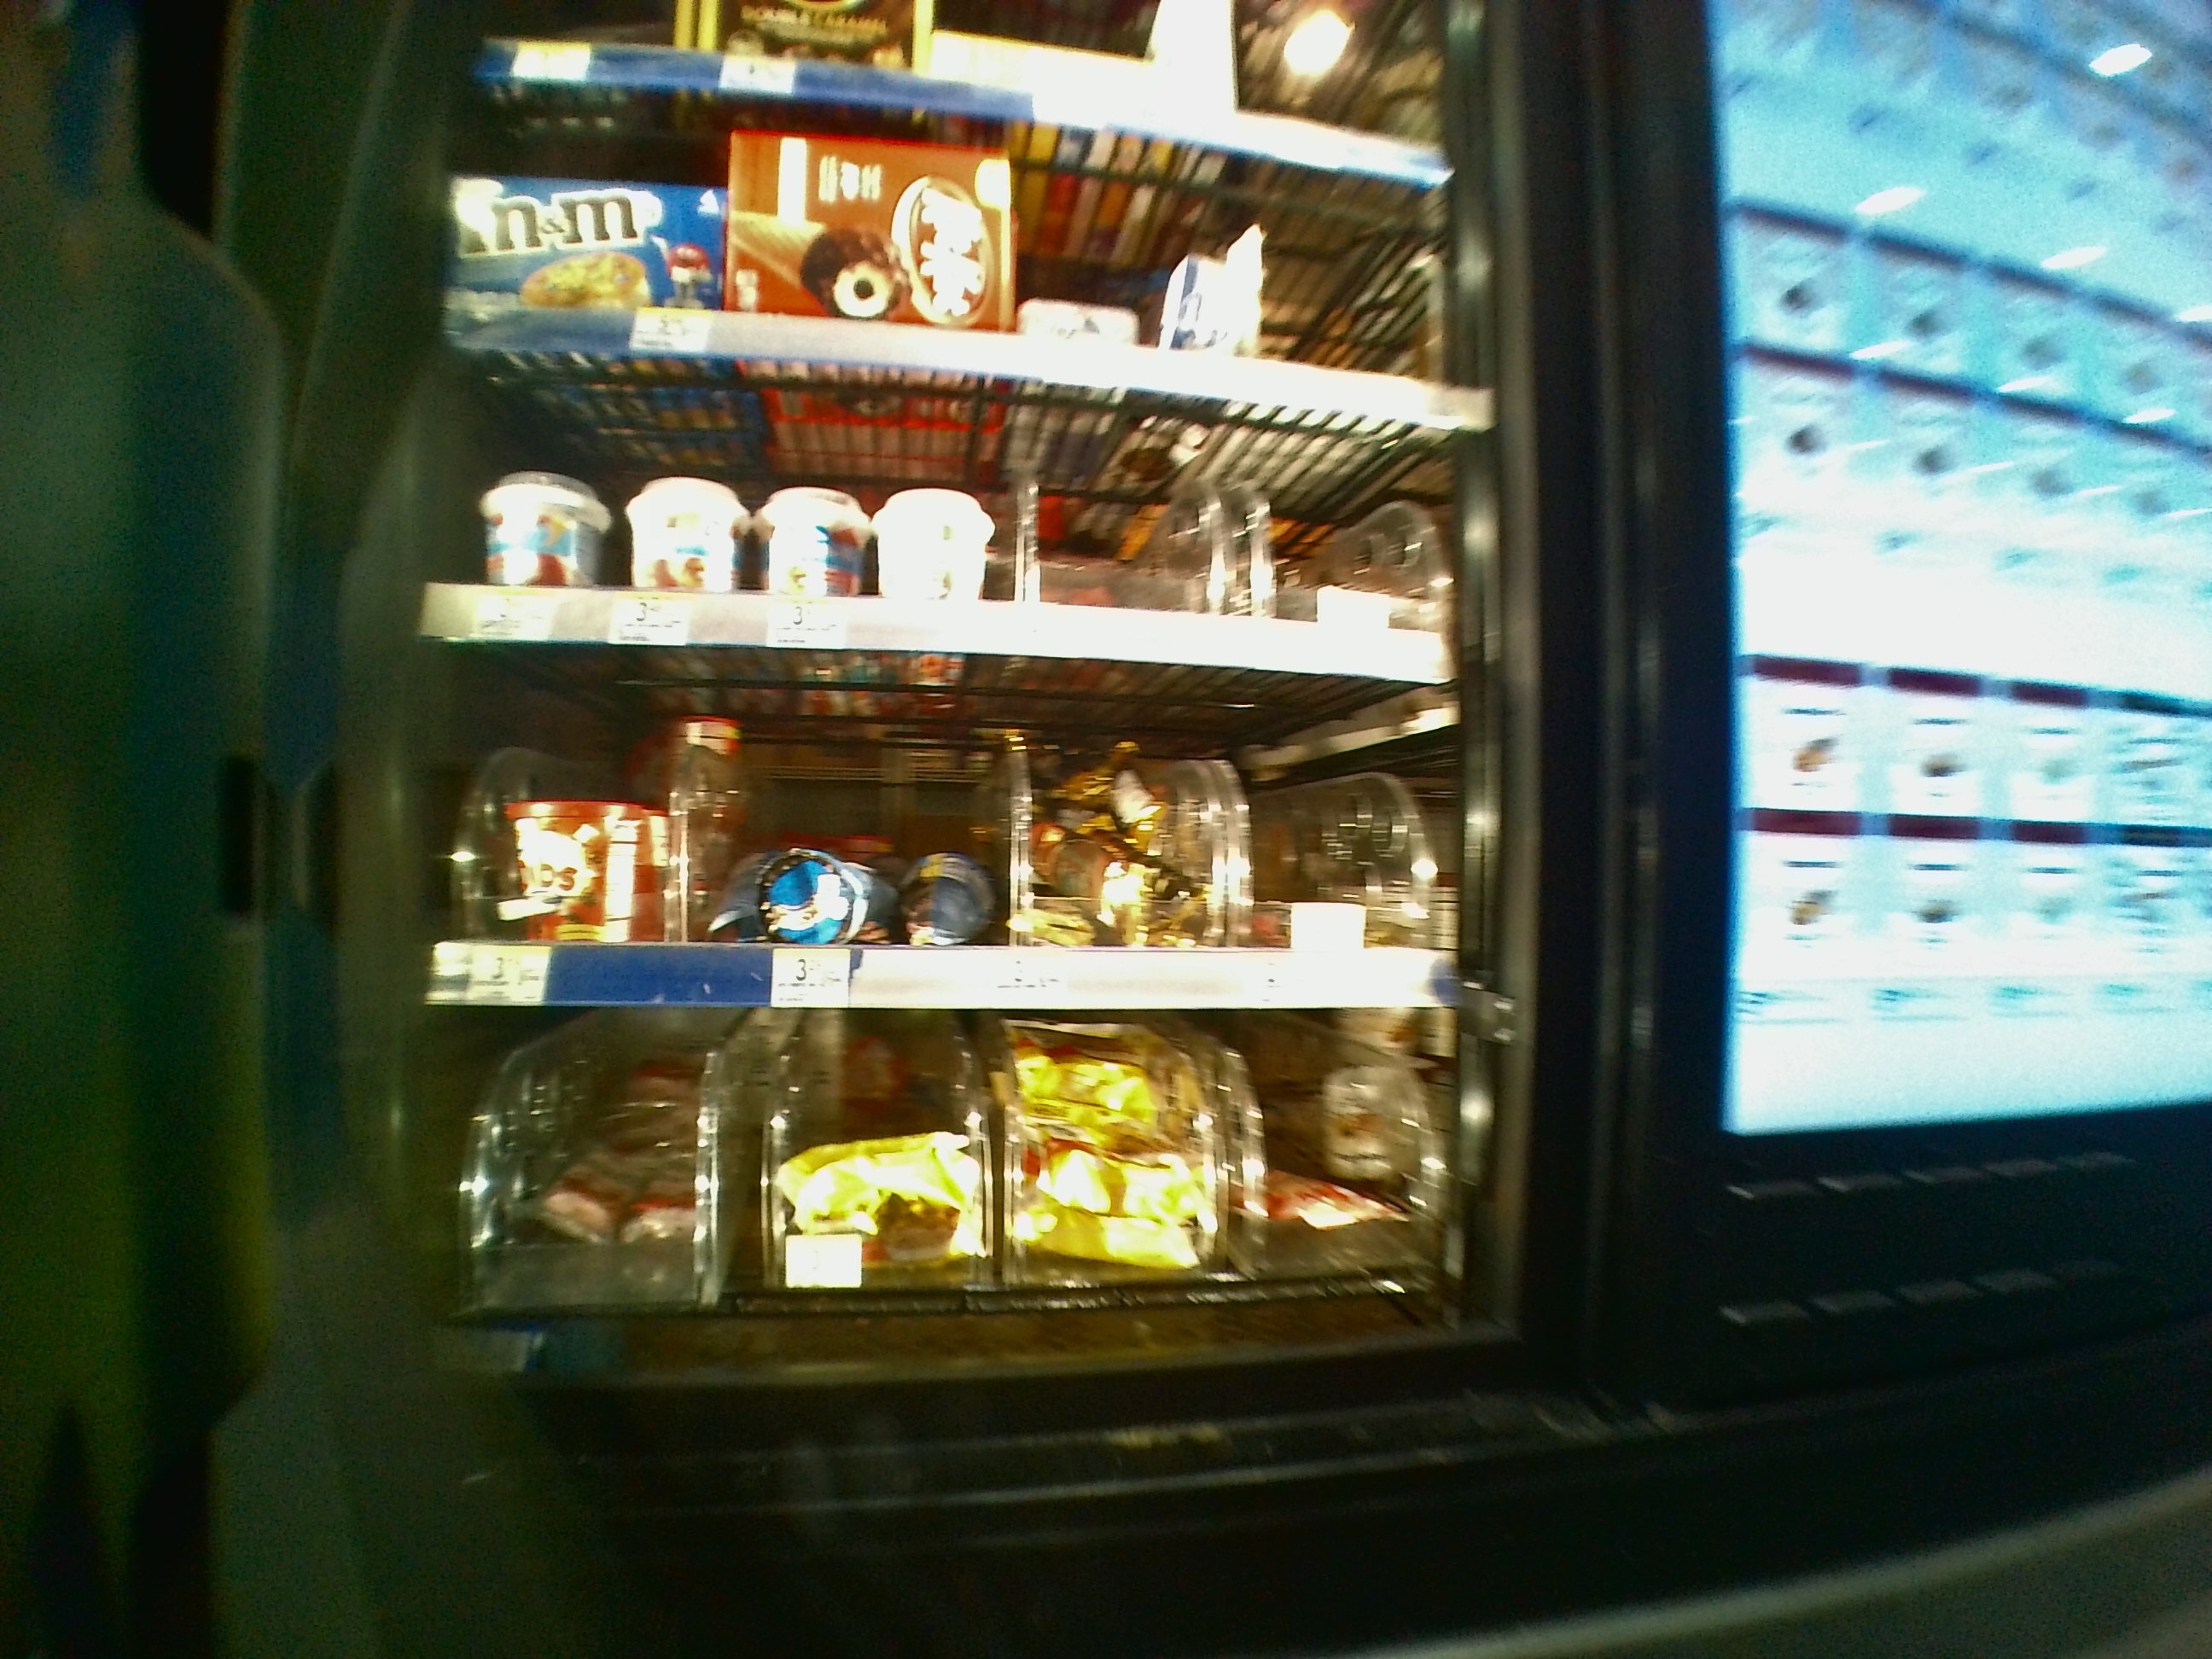shelf: (432, 1009, 1484, 1422), (425, 647, 1491, 1000), (425, 345, 1470, 638)
